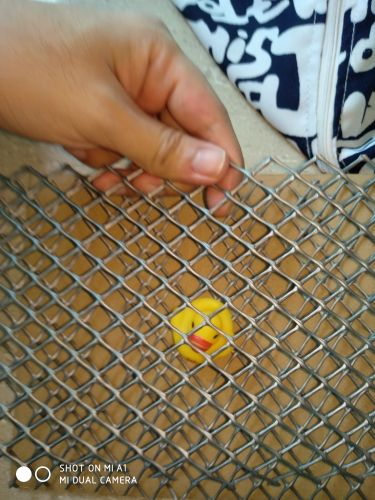unknownObject: (169, 298, 233, 361)
